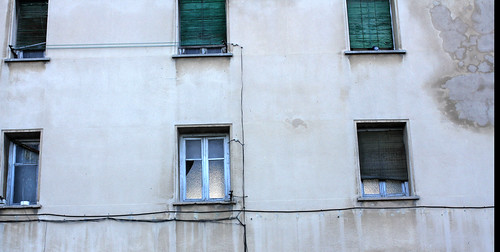building: (1, 1, 495, 249)
window: (174, 121, 229, 199), (354, 124, 409, 202), (1, 125, 43, 213), (349, 1, 399, 52), (180, 1, 230, 52), (1, 1, 41, 60)
